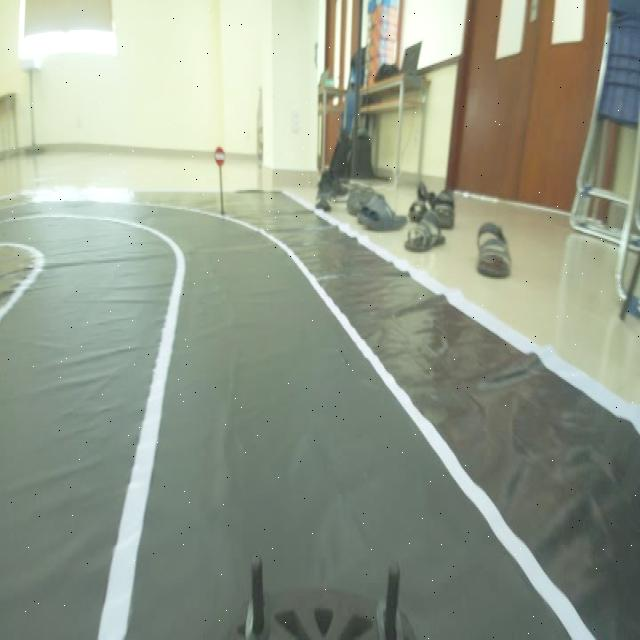no_entry: (209, 142, 229, 170)
